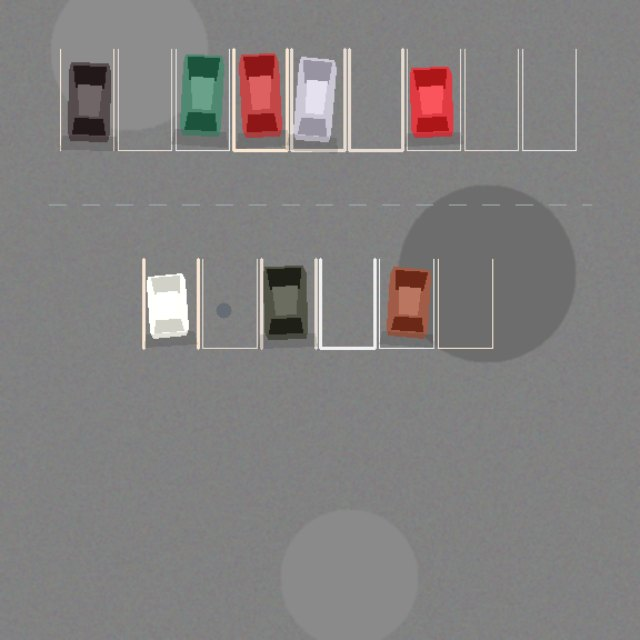space-empty: (464, 49, 518, 150), (522, 49, 576, 150), (118, 49, 171, 150), (349, 49, 402, 150), (202, 259, 257, 348), (320, 259, 374, 348), (438, 259, 492, 348)
space-occupied: (233, 49, 287, 150), (60, 49, 113, 150), (176, 49, 229, 150), (291, 49, 344, 150), (407, 49, 460, 150), (143, 259, 198, 348), (261, 259, 316, 348), (379, 259, 433, 348)
